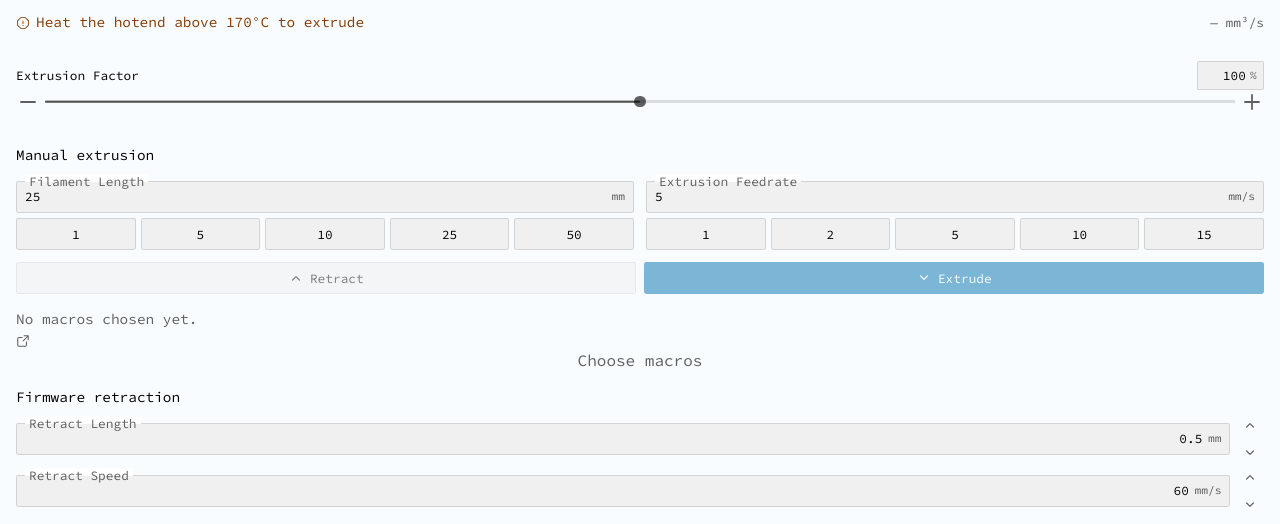
Test: ExtruderModule › does not overwrite a retraction field while it is being edited
Replace the text in the number field labelled "Retract length mm" with "0.9" at (614, 439), box [25,429,1202,448]
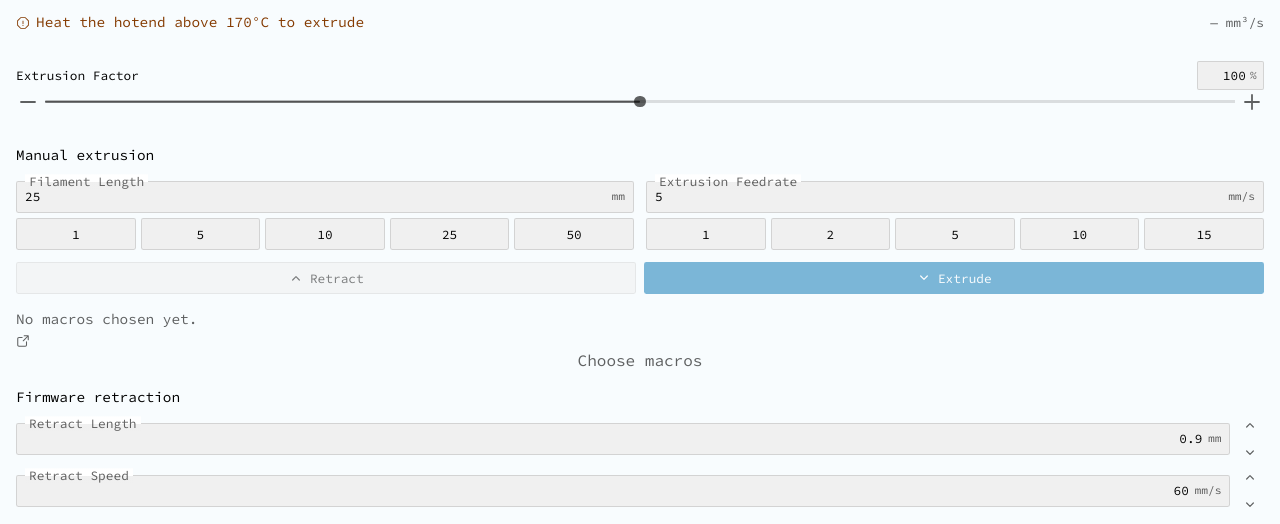
Leave the number field labelled "Retract length mm", box [25,429,1202,448]
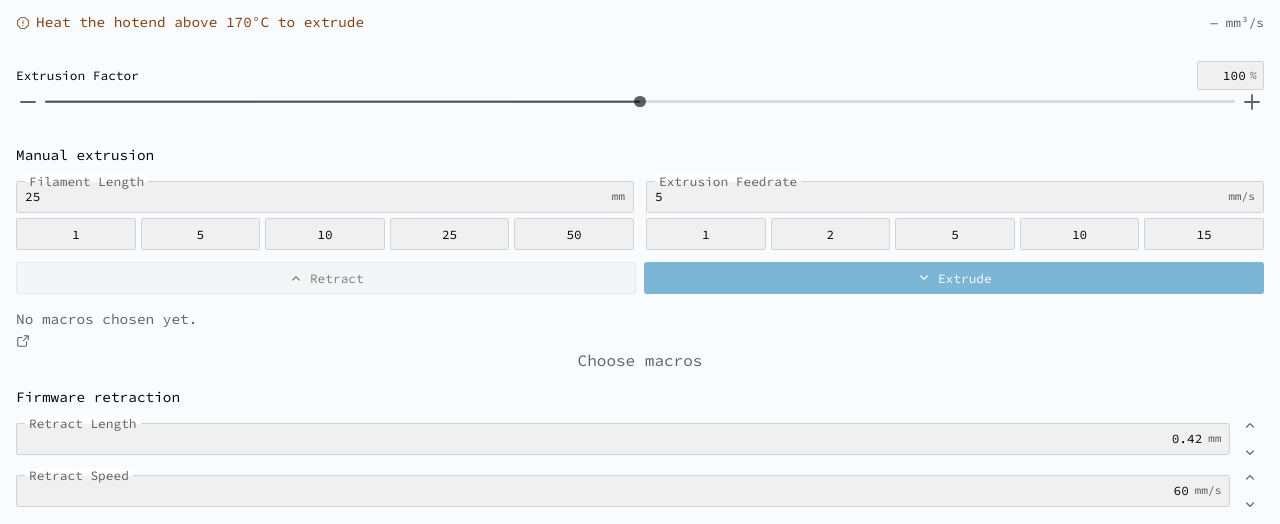
Expected: the number field labelled "Retract length mm" holds "0.42", [25,429,1202,448]
